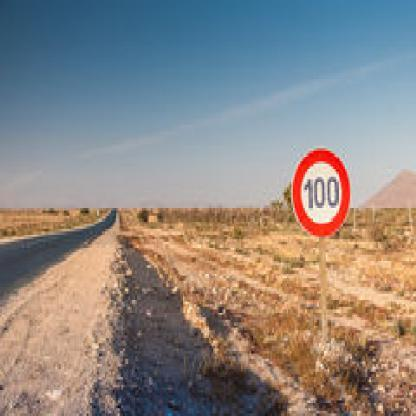Speed Limit 100: (292, 148, 351, 234)
